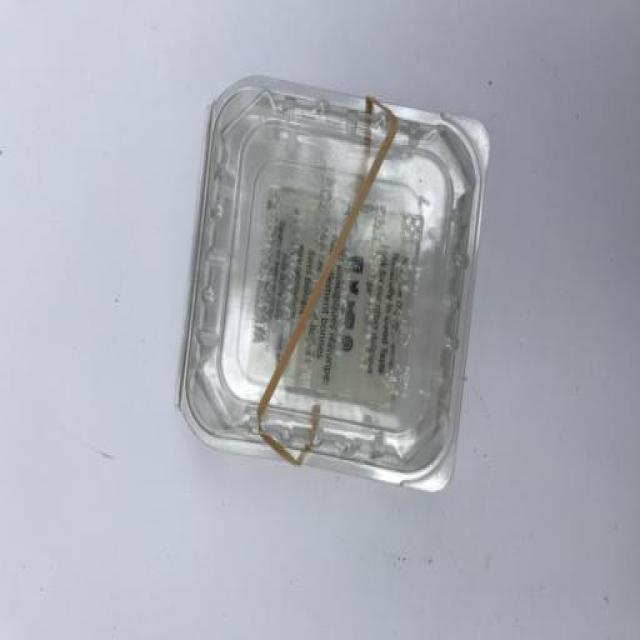plastic: (129, 60, 516, 578)
